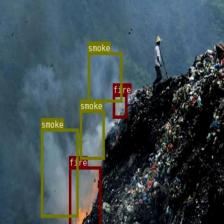fire: (68, 166, 100, 224), (113, 93, 127, 118)
smoke: (41, 128, 78, 216), (87, 52, 122, 102), (80, 109, 104, 159)
